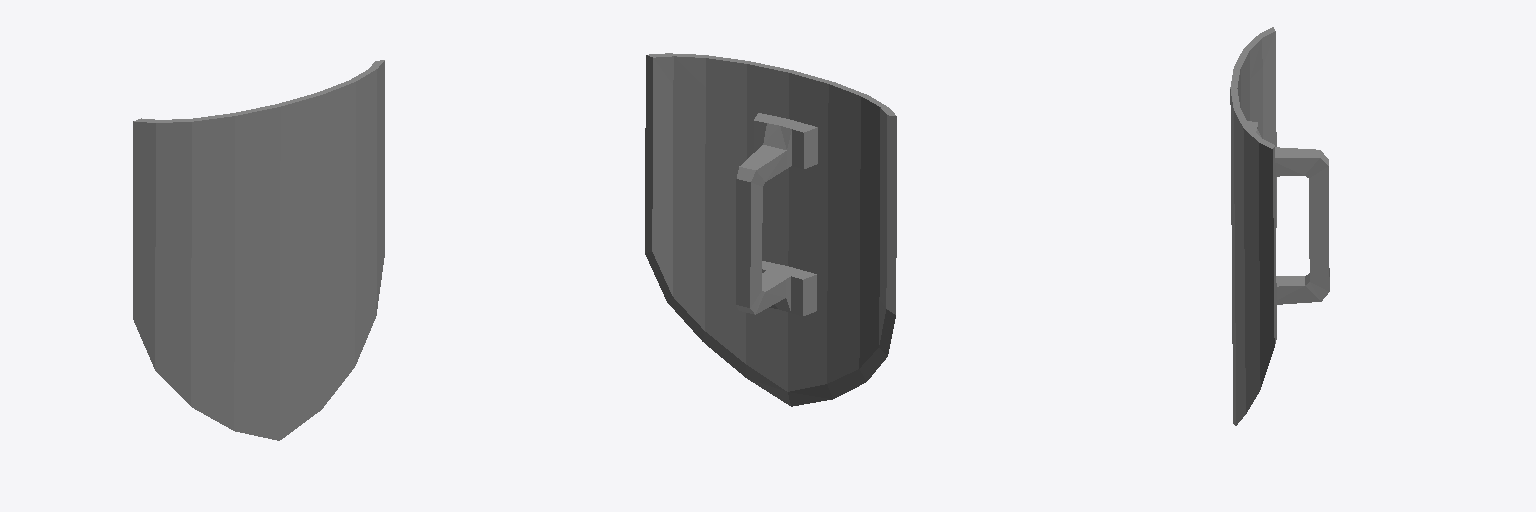
Rendered from DreamShield.obj.
3 views of the same model, side by side, from view 1: azimuth 30°, elevation 25°; view 2: azimuth 150°, elevation 25°; view 3: azimuth 270°, elevation 25° (orthographic).
Parts seen in each view (by area): view 1: mesh1, mesh2; view 2: mesh2, mesh1; view 3: mesh2, mesh1.
Boxes of the visible parts, x1=… form: mesh1: x1=133, y1=90, x2=384, y2=440; mesh2: x1=133, y1=60, x2=384, y2=152; mesh2: x1=646, y1=53, x2=896, y2=391; mesh1: x1=645, y1=85, x2=896, y2=406; mesh2: x1=1230, y1=27, x2=1329, y2=304; mesh1: x1=1231, y1=124, x2=1276, y2=425.
Bounding box in the file's own units: 47.46 × 60.54 × 16.21.